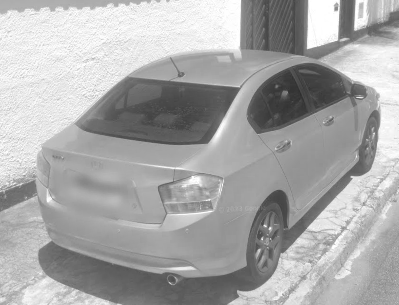car: (38, 50, 379, 287)
